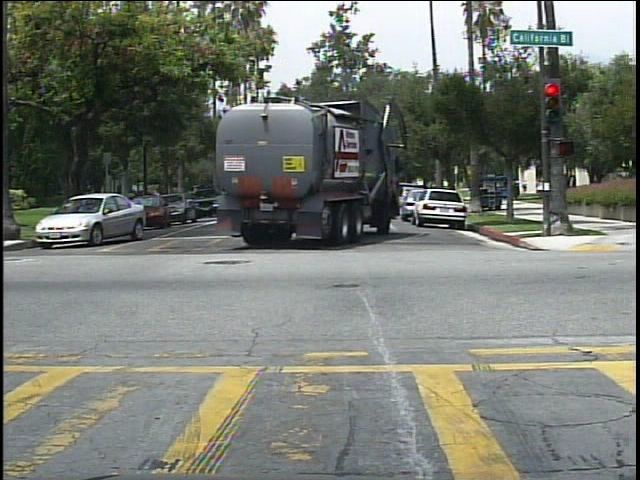person: (566, 169, 584, 199), (519, 176, 532, 195)
